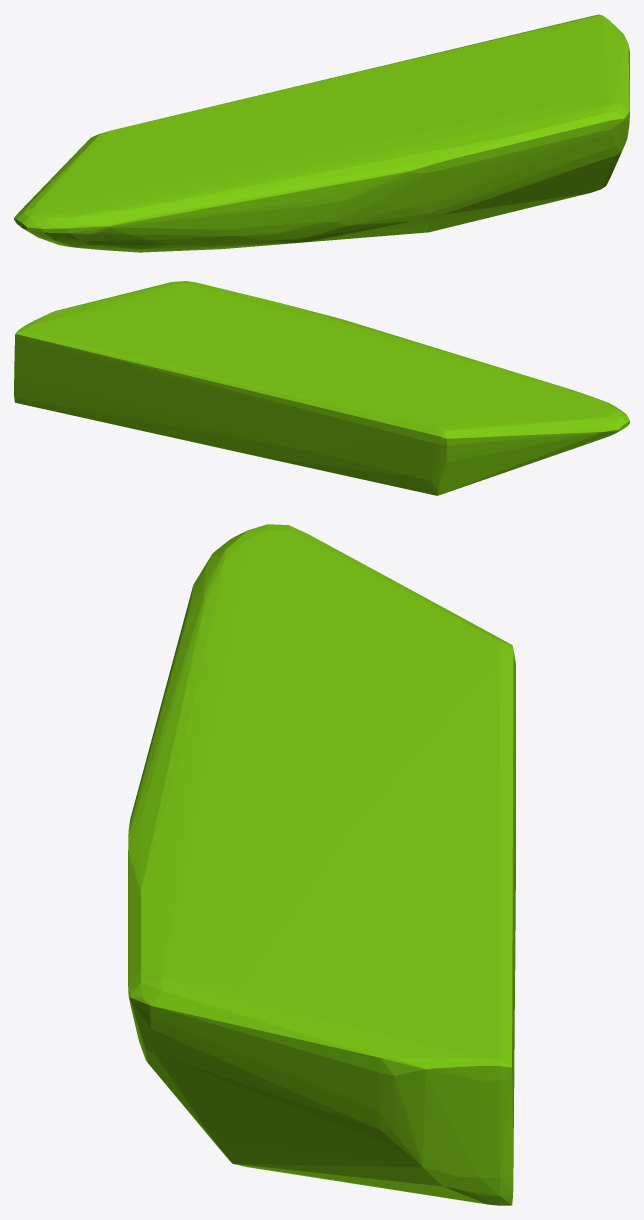
3 renders of one model, top to bottom at view 1: azimuth 30°, elevation 25°; view 2: azimuth 150°, elevation 25°; view 3: azimuth 270°, elevation 25°, orthographic. The views are drawn at different scales.
Size of the model in its own units: 0.2162 by 0.034 by 0.0656.
